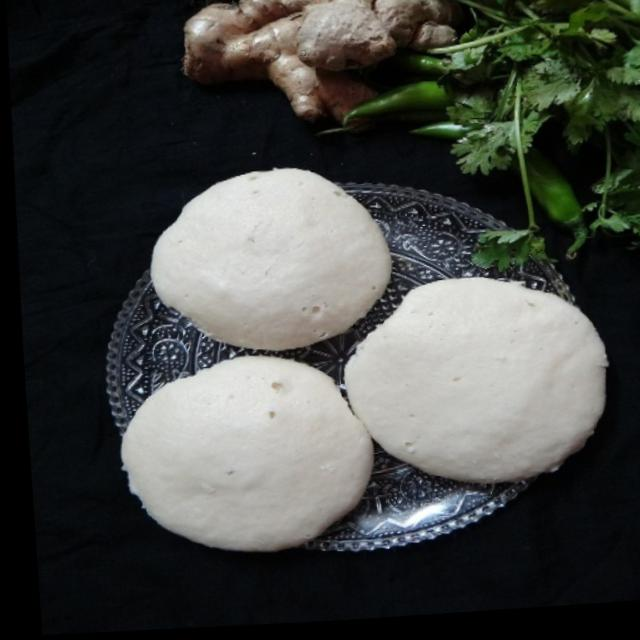IDLI: (121, 279, 606, 549), (150, 167, 389, 348)
